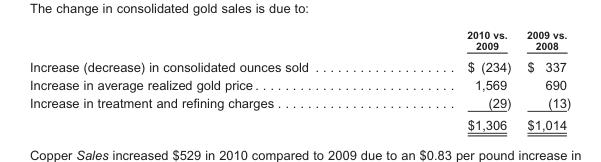table: (28, 28, 570, 131)
table column: (28, 28, 387, 131), (387, 28, 518, 131), (518, 28, 570, 131)
table column header: (28, 28, 570, 54)
table row: (28, 28, 570, 54), (28, 54, 570, 75), (28, 93, 570, 113), (28, 75, 570, 93), (28, 113, 570, 131)
